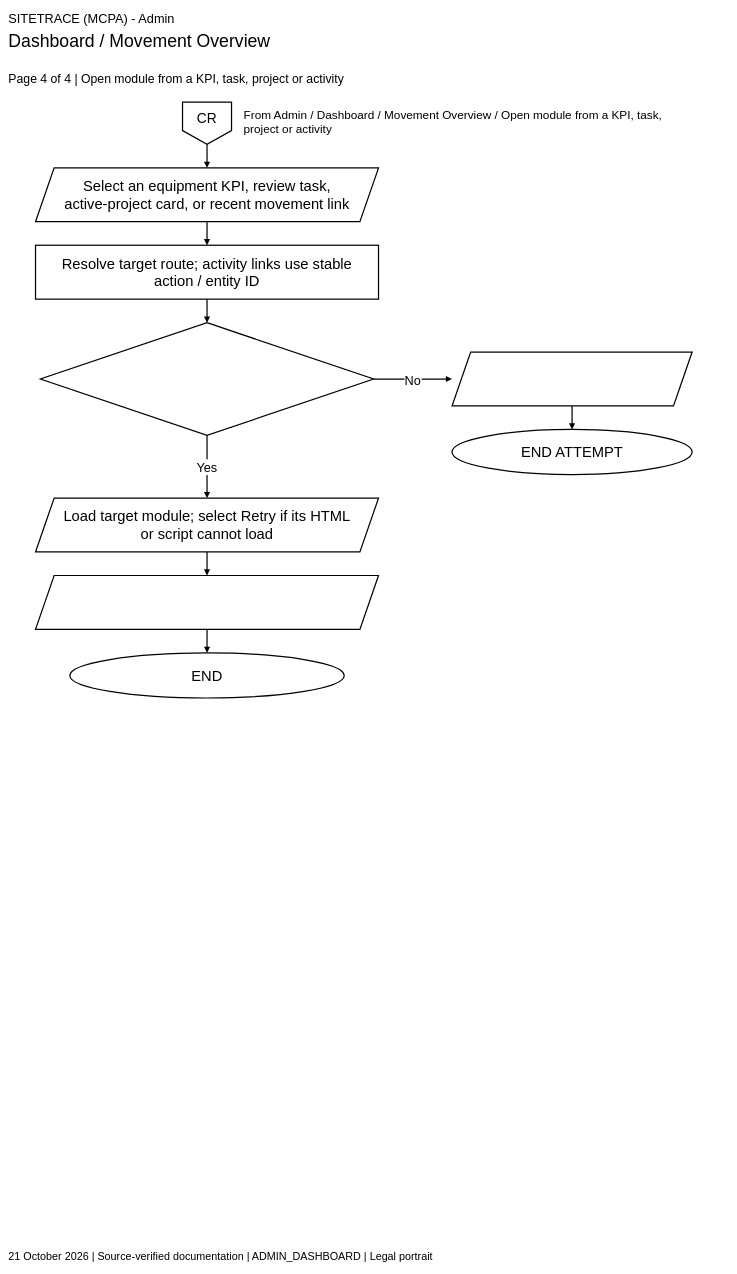
Some shapes in this 737 by 1274 pixel diagram are drawn without their labels. Here are the shapes that lost their labels. From the top down, the box of each, then its label:
(40, 322, 374, 436): Signed-in role can open the target route?
(451, 351, 693, 406): Reset protected content and display access denial
(35, 575, 379, 630): The target module handles its own read and mutation workflow.
